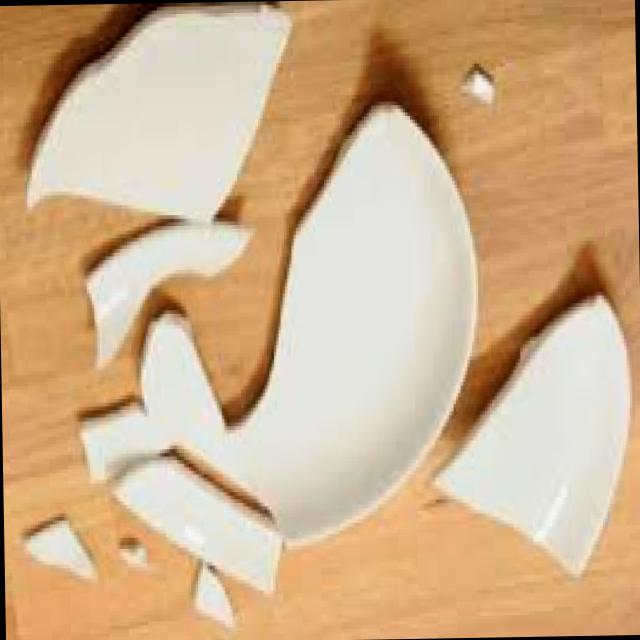PecahanKaca: (74, 100, 486, 632), (430, 291, 638, 587), (462, 66, 496, 107)
